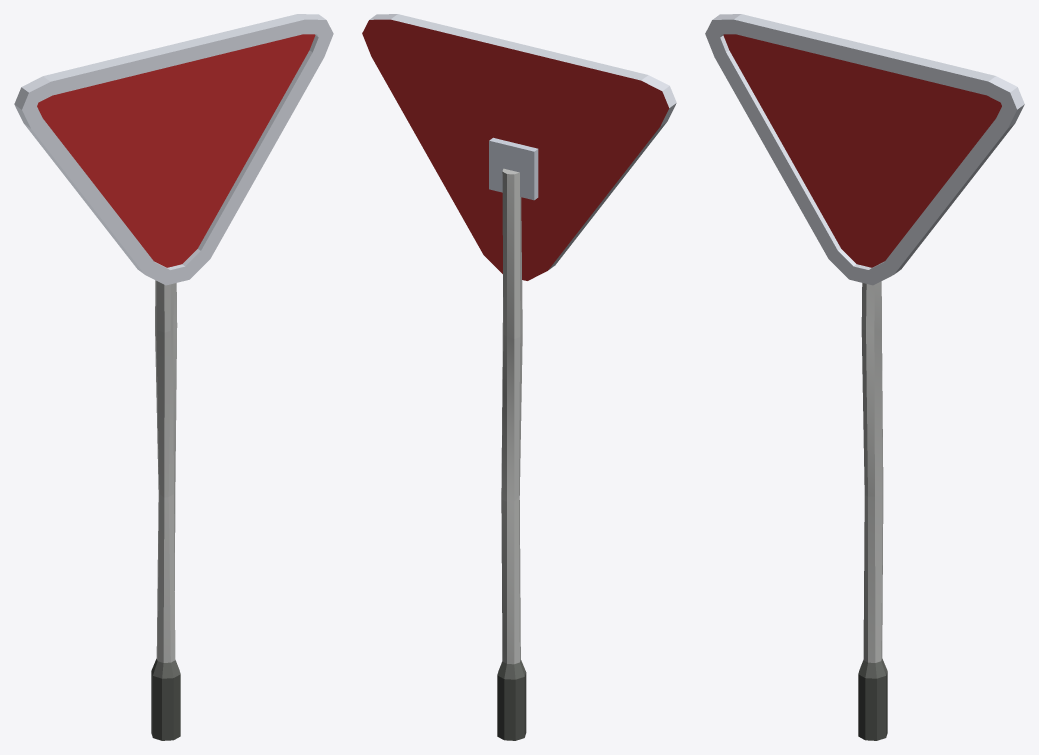
File: Warning_Sign.glb
The picture shows the model from 3 angles, left to right: view 1: azimuth 30°, elevation 25°; view 2: azimuth 150°, elevation 25°; view 3: azimuth 330°, elevation 25°; orthographic projection.
Parts seen in each view (by area): view 1: WarningSign; view 2: WarningSign; view 3: WarningSign.
Boxes of the visible parts, x1,y1,x2,y2 form: WarningSign: (14,14,333,740); WarningSign: (362,14,676,740); WarningSign: (705,14,1024,740).
Size of what is drawn, in the model's own units: 1.15 by 2.44 by 0.1241.
Materials: 1 (1 with a texture image).
